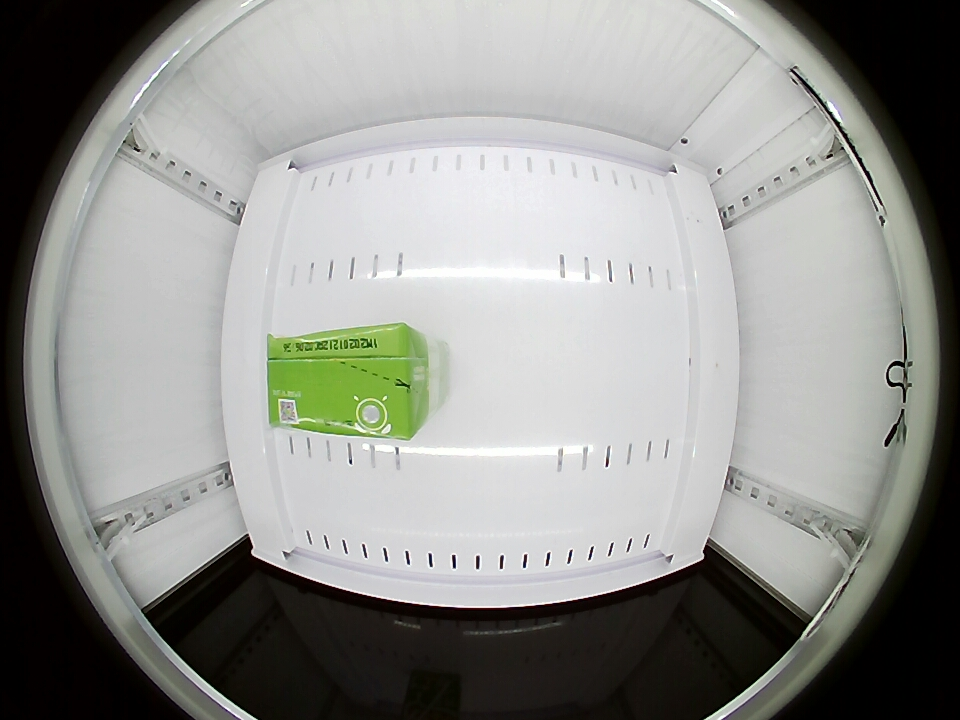mengniuzaocan: (267, 325, 428, 440)
